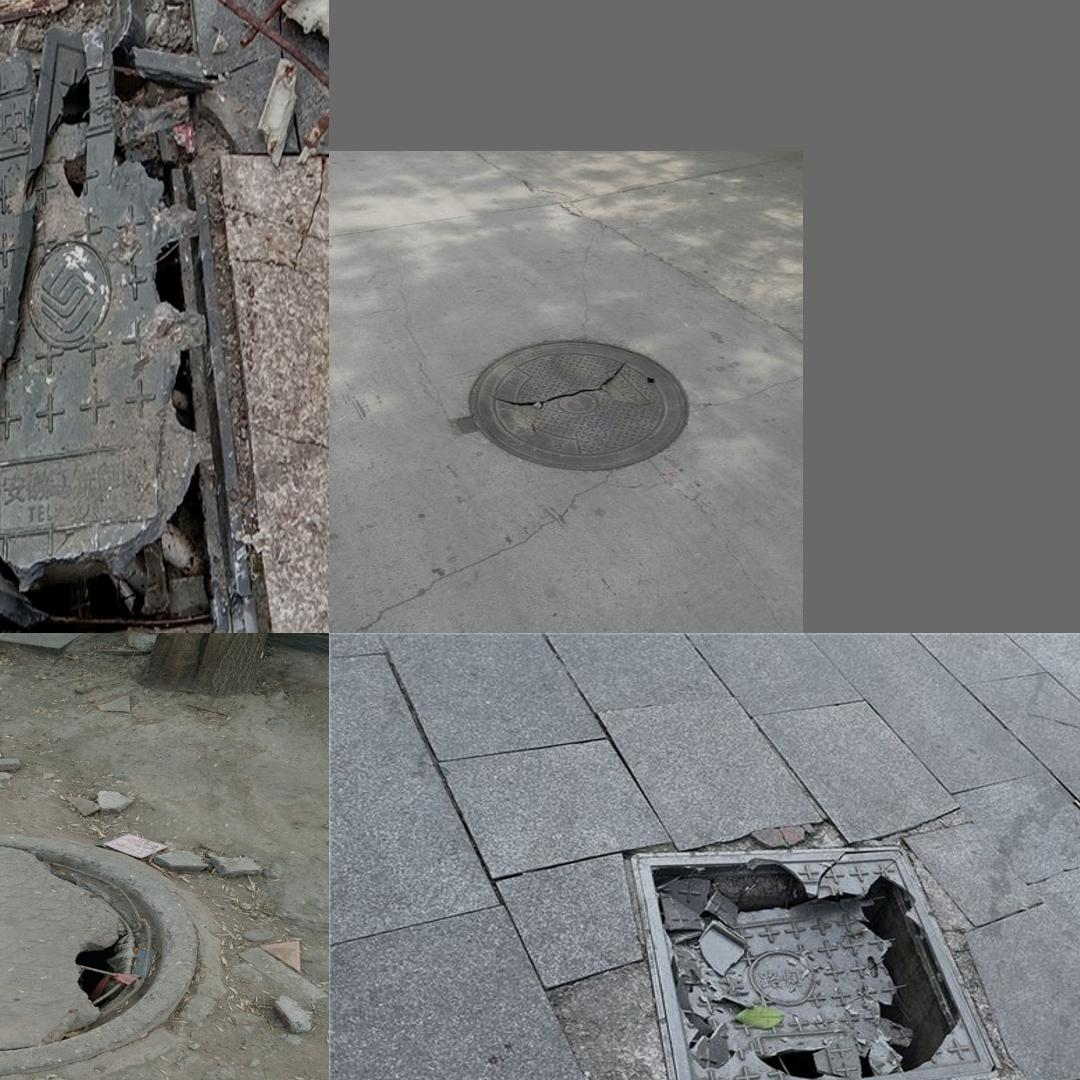broke: (0, 43, 264, 633), (599, 826, 1044, 1080), (0, 832, 199, 1080), (450, 332, 693, 476), (0, 0, 185, 3)
